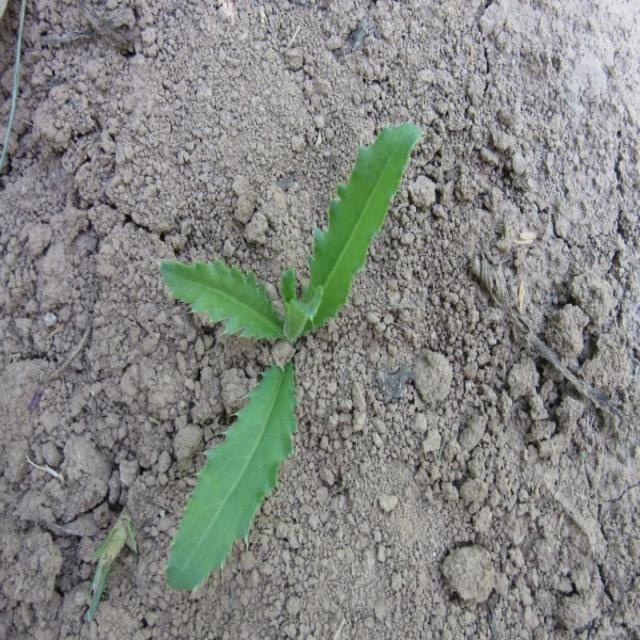field_thistle: (132, 98, 431, 577)
